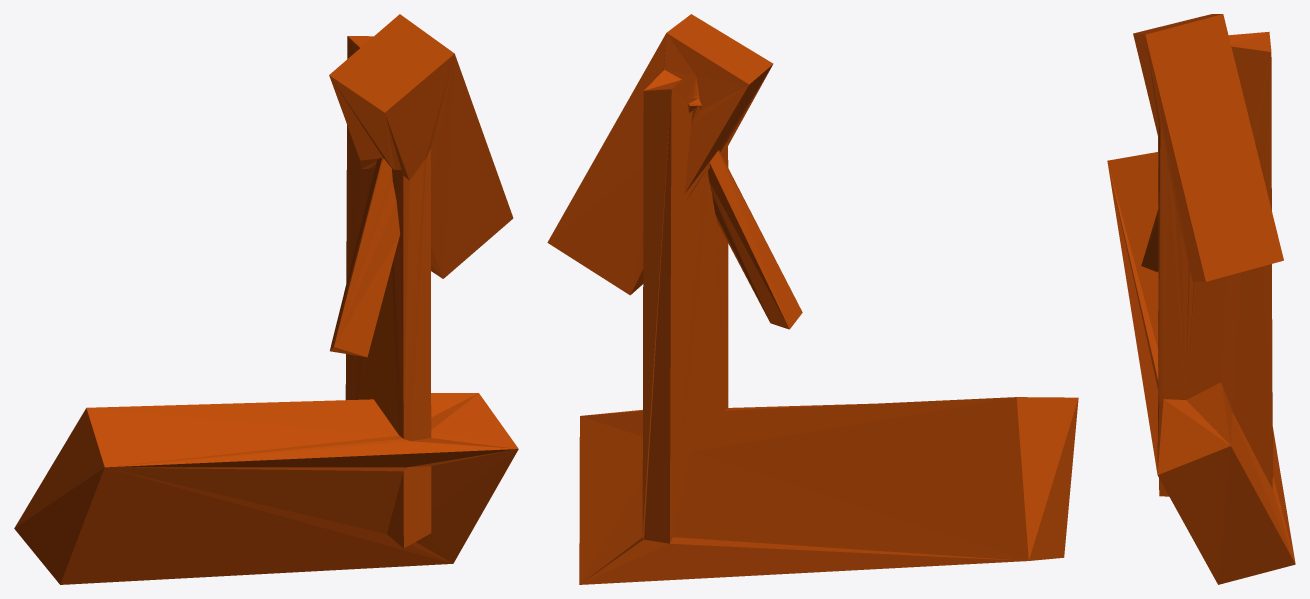
The picture shows the model from 3 angles, left to right: view 1: azimuth 30°, elevation 25°; view 2: azimuth 150°, elevation 25°; view 3: azimuth 270°, elevation 25°; orthographic projection. The views are drawn at different scales.
Parts seen in each view (by area): view 1: 597_Cube.2401; view 2: 597_Cube.2401; view 3: 597_Cube.2401.
Part boxes in pixels (<box>): 597_Cube.2401: <box>14,14,518,584</box>; 597_Cube.2401: <box>547,14,1078,584</box>; 597_Cube.2401: <box>1107,14,1295,584</box>.
Bounding box in the file's own units: 12.94 × 14.45 × 4.51.
